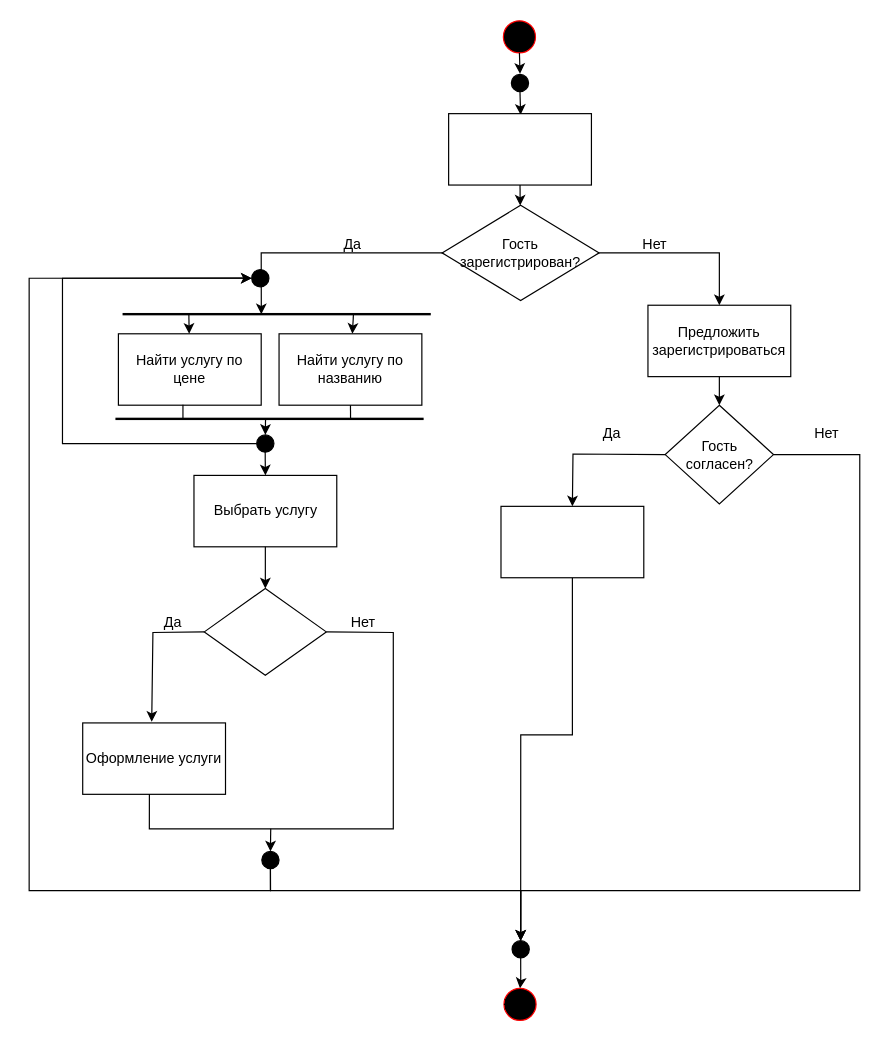
The diagram is 890 pixels wide and 1041 high, and some of its shapes have lost their labels. The centre of each missing label's shape, as x and y in pixels:
"Найти гостя" belongs at [519,148].
"Регистрация гостя" belongs at [572,541].
"Эта услуга подходит?" belongs at [264,631].
